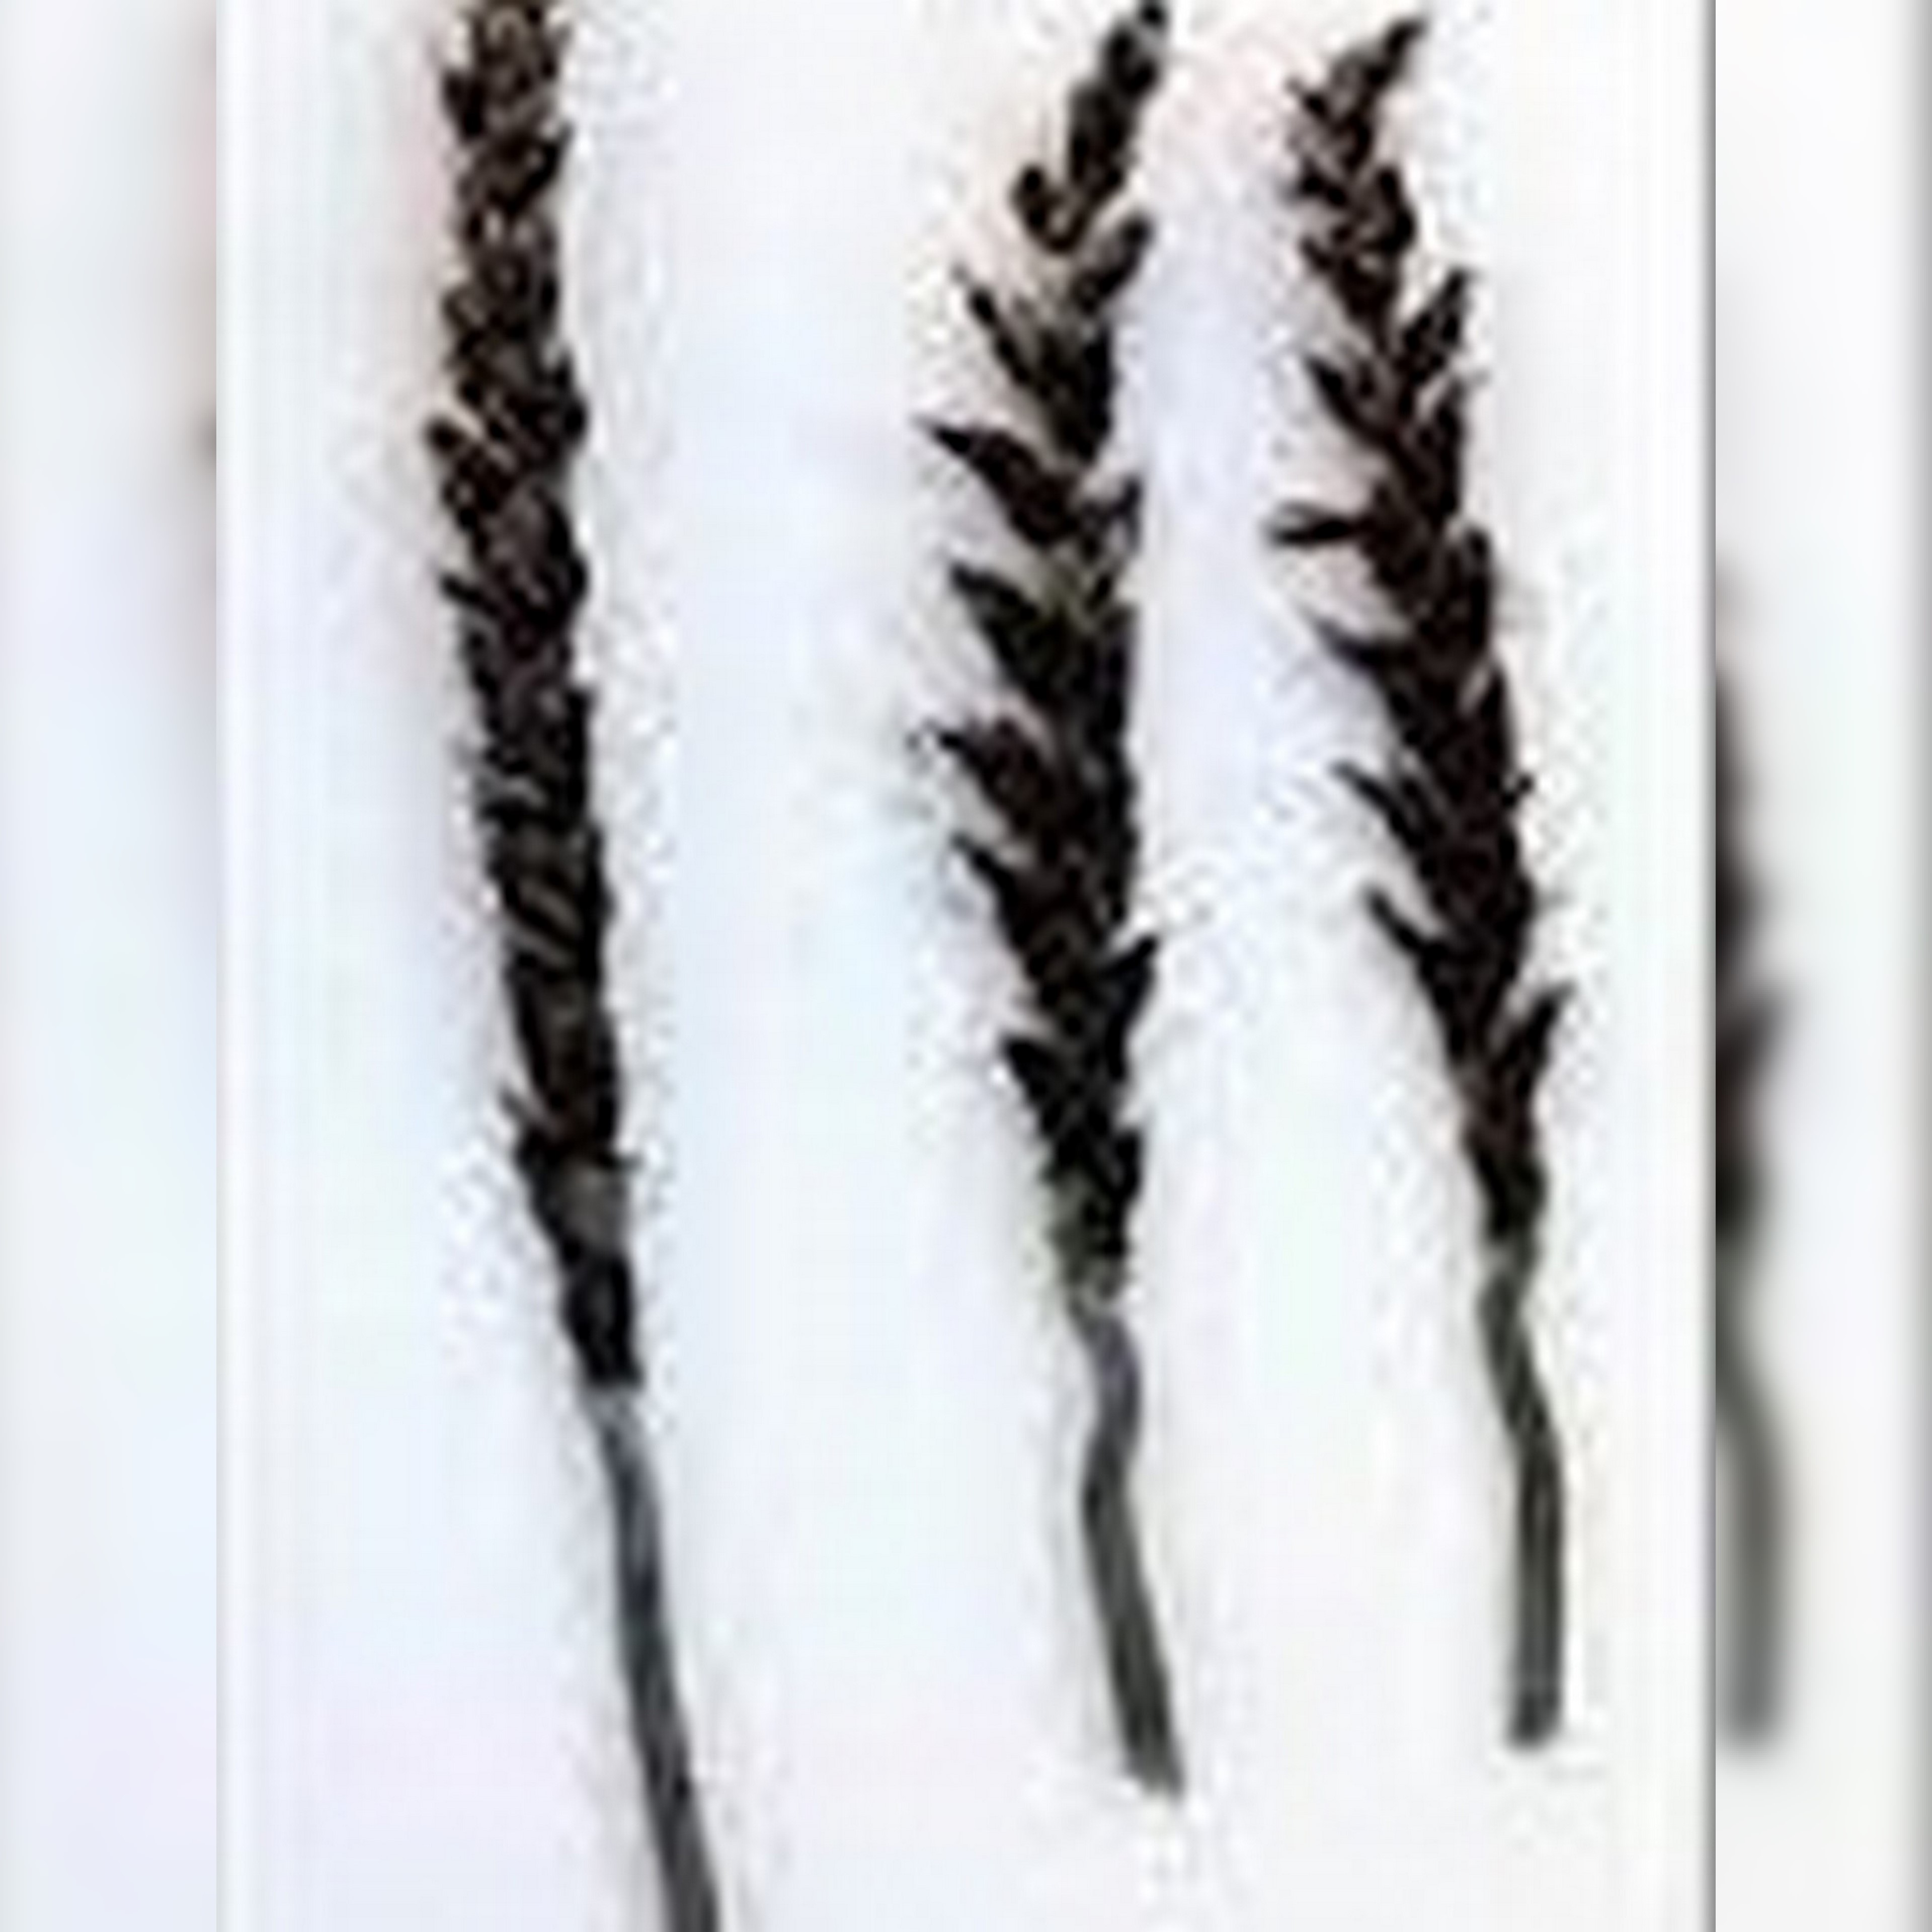Wheat Loose Smut: (407, 51, 1580, 1297)
